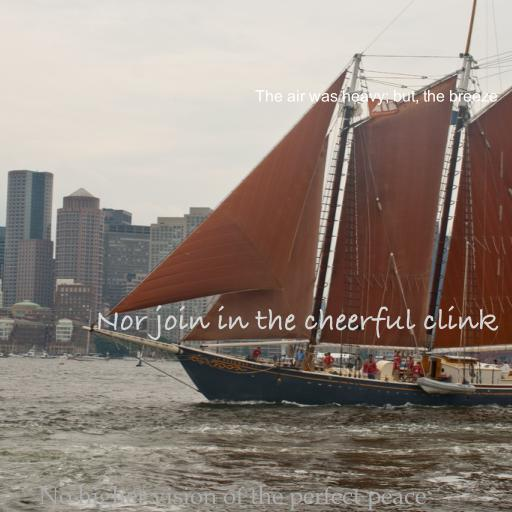Arial: (254, 90, 498, 105)
Bradley Hand: (94, 305, 498, 341)
Palatino: (38, 485, 426, 511)
